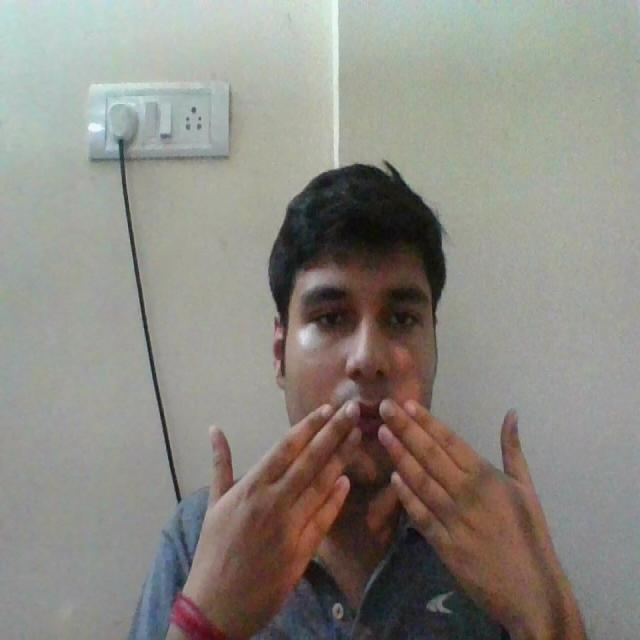Thanks: (170, 362, 593, 640)
